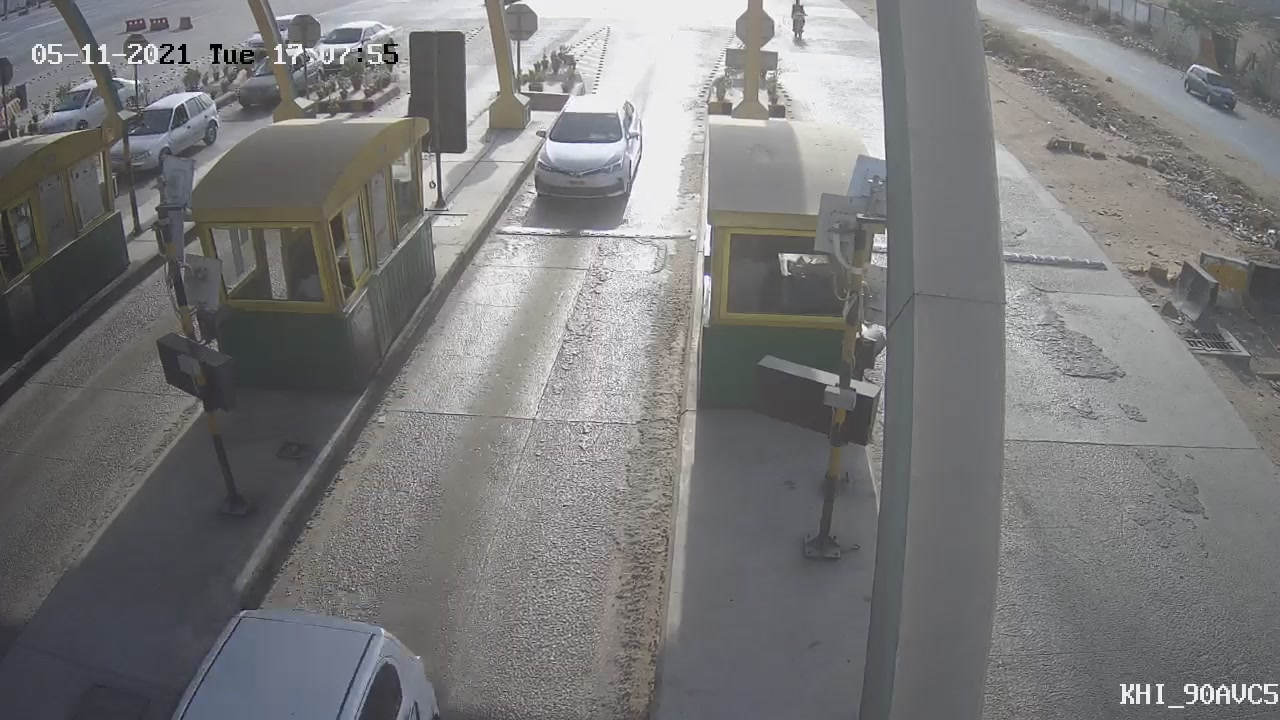F1: (517, 79, 660, 214)
